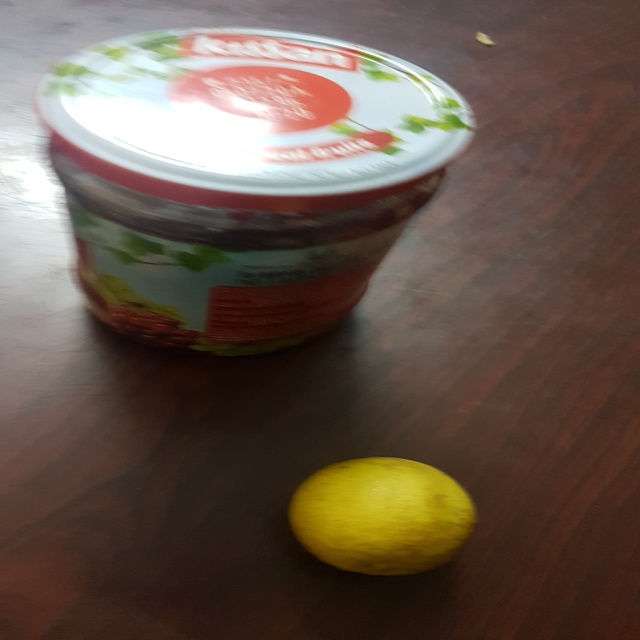lemon: (286, 452, 488, 579)
